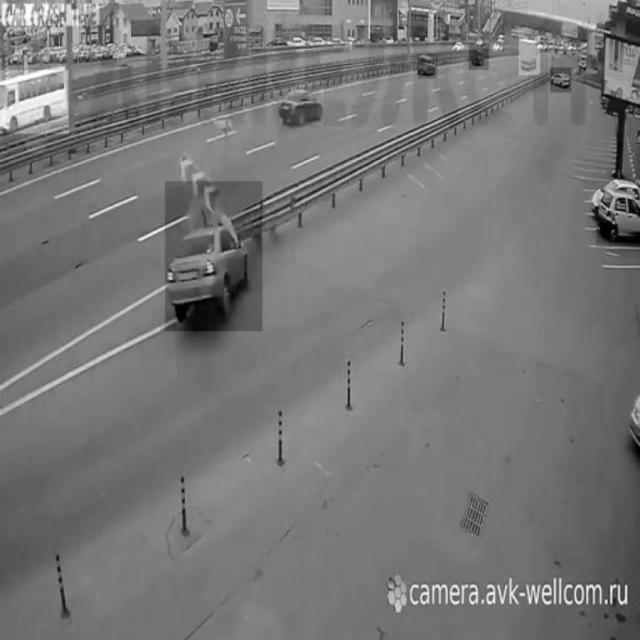accident: (165, 181, 263, 331)
vehicle: (0, 69, 68, 133), (596, 190, 640, 245), (280, 80, 324, 125), (519, 36, 539, 74), (469, 44, 489, 70), (417, 54, 437, 79), (550, 67, 570, 92)
